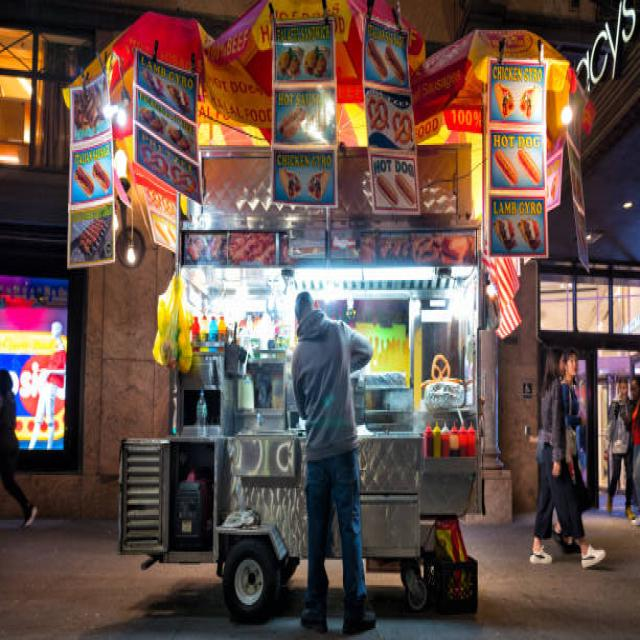Emperan: (54, 0, 626, 625)
